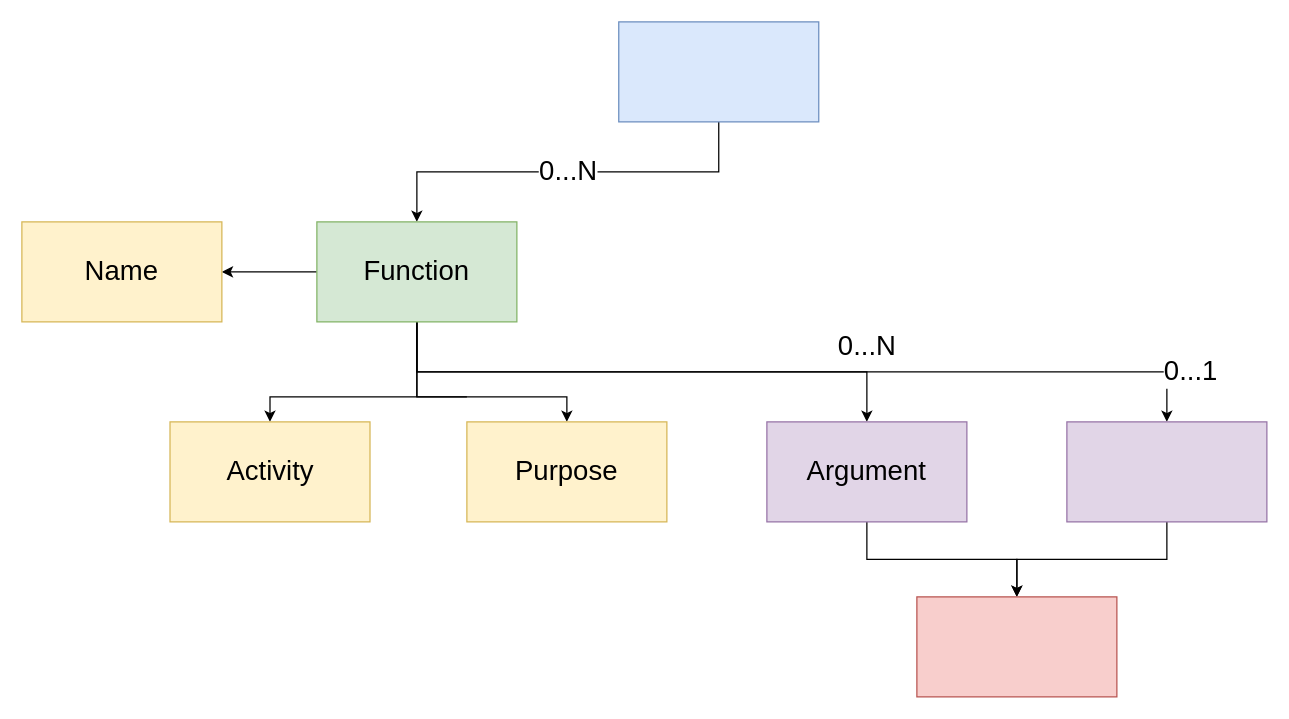
Some shapes in this 1289 by 719 pixel diagram are drawn without their labels. The box of each missing label's shape, as (x1, y1, x2, y2) in pixels:
Data: (916, 596, 1117, 697)
Return Value: (1066, 421, 1267, 522)
Thing: (618, 21, 819, 122)
